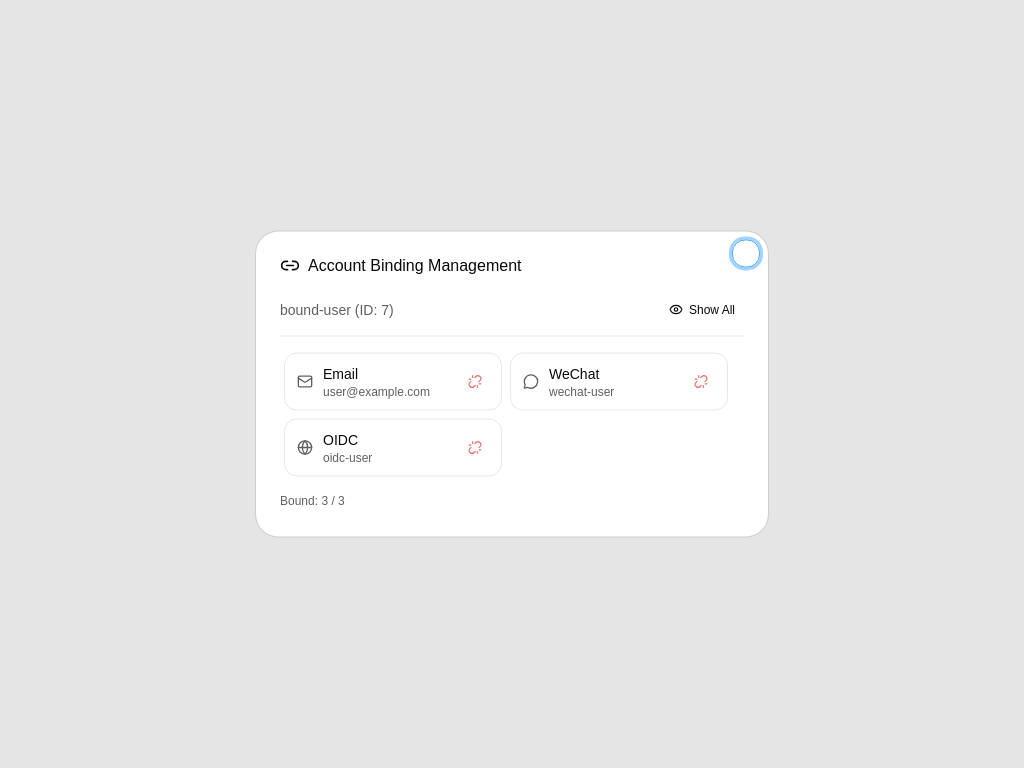
Test: UserBindingDialog built-in bindings › submits each supported binding type and keeps removed providers hidden
Expected: the text "bound-user (ID: 7)" is shown, [280,300,394,320]
Click the button without text next to "user@example.com" at (475, 382), box [461,368,489,396]
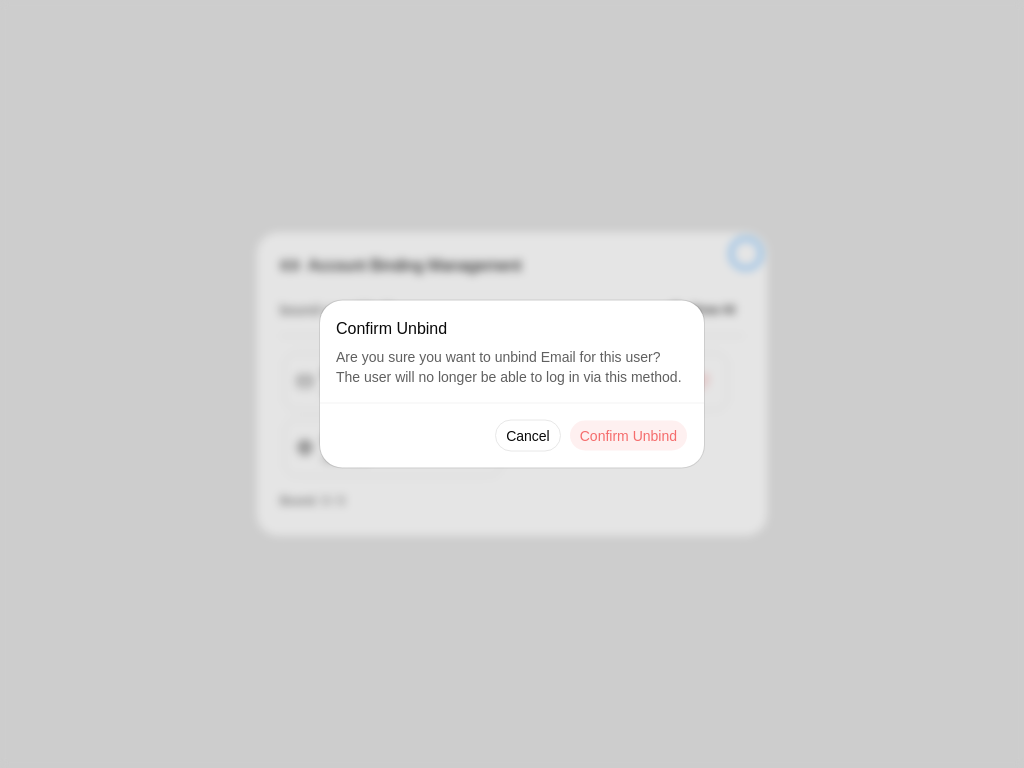
Click the button "Confirm Unbind" at (628, 436), box [569,420,688,452]
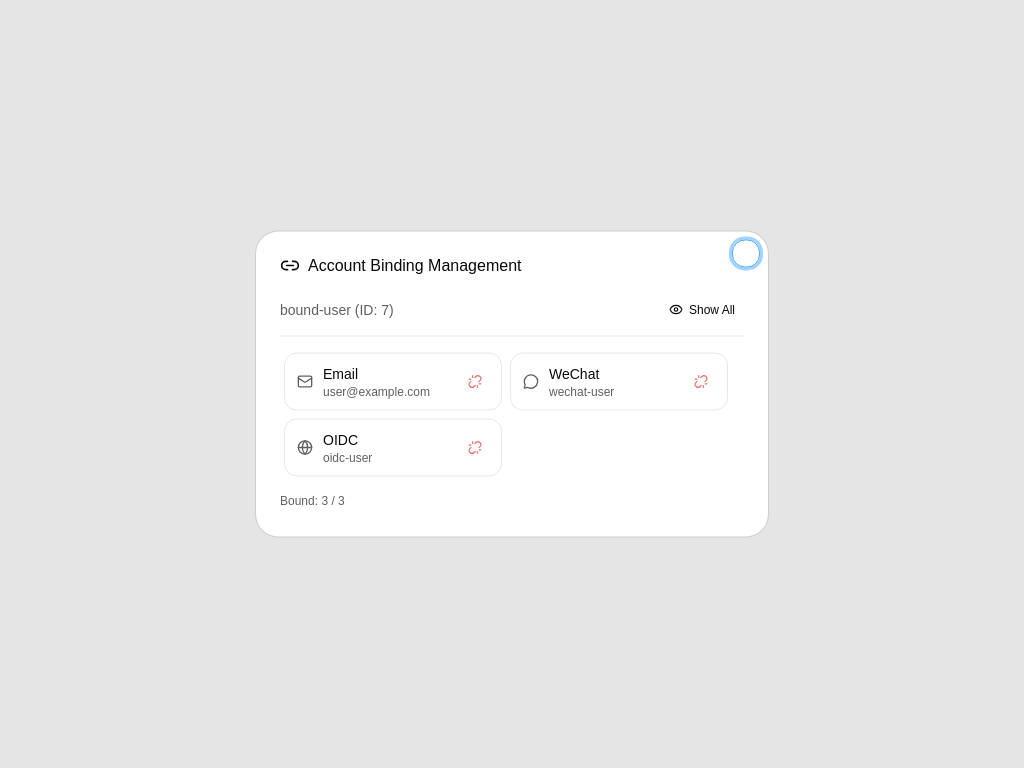
Result: the heading "Confirm Unbind" is gone
Click the button without text next to "wechat-user" at (701, 382), box [687,368,715,396]
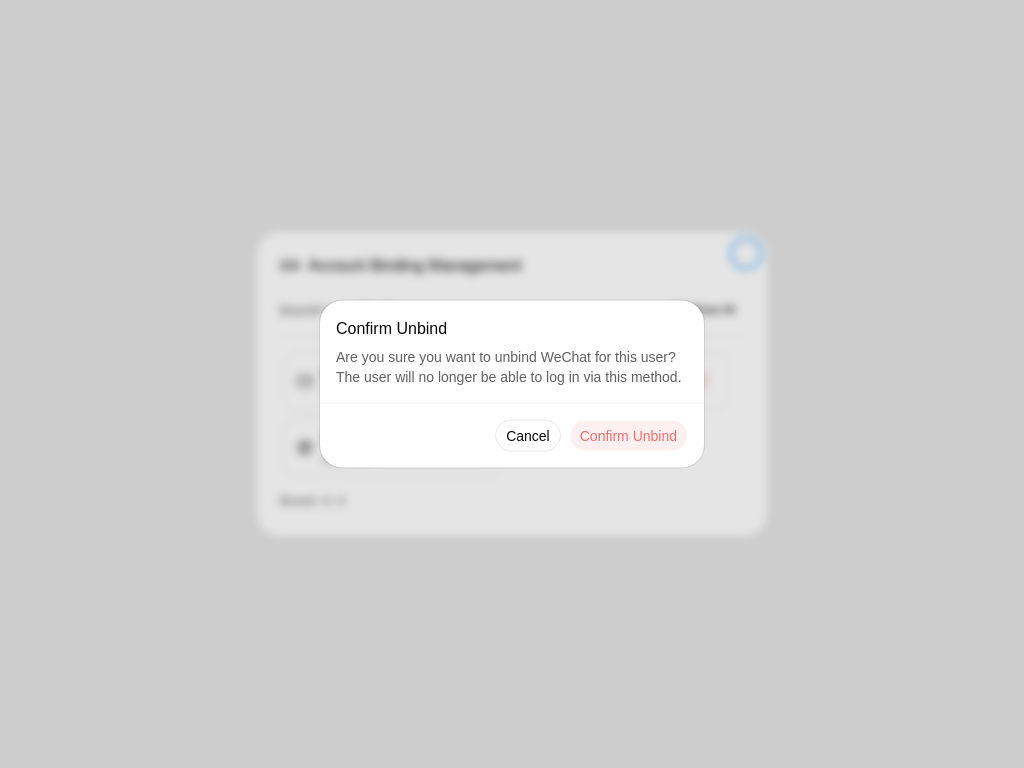
Click the button "Confirm Unbind" at (628, 436), box [569,420,688,452]
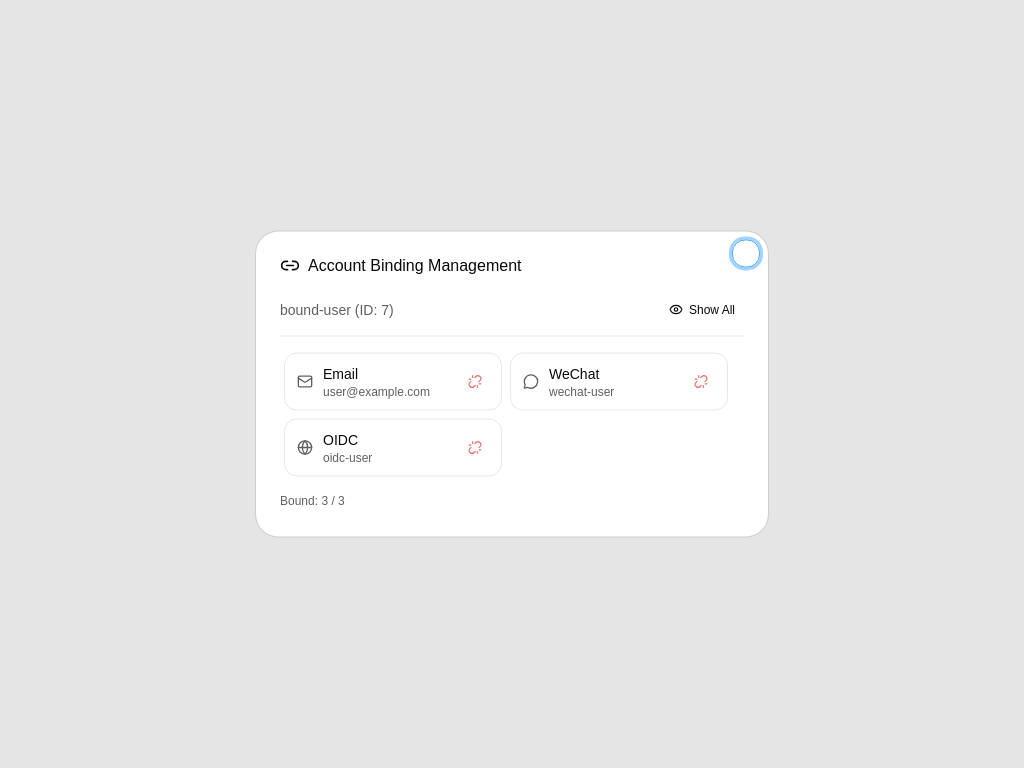
Result: the heading "Confirm Unbind" is gone
Click the button without text next to "oidc-user" at (475, 448), box [461,434,489,462]
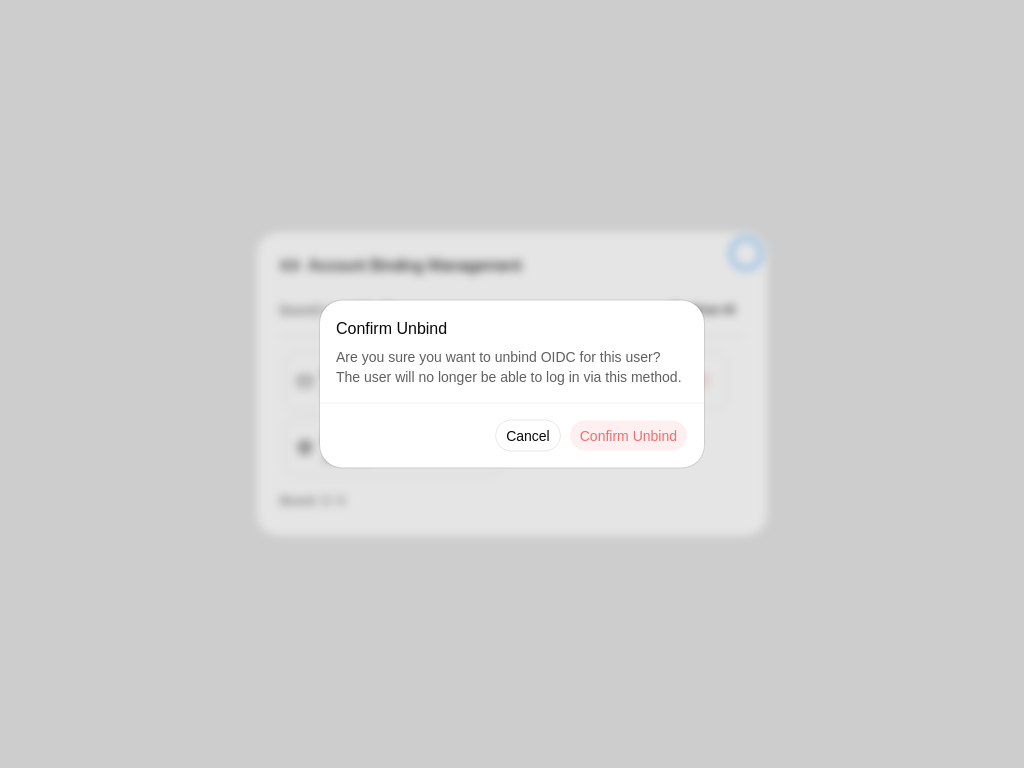
Click the button "Confirm Unbind" at (628, 436), box [569,420,688,452]
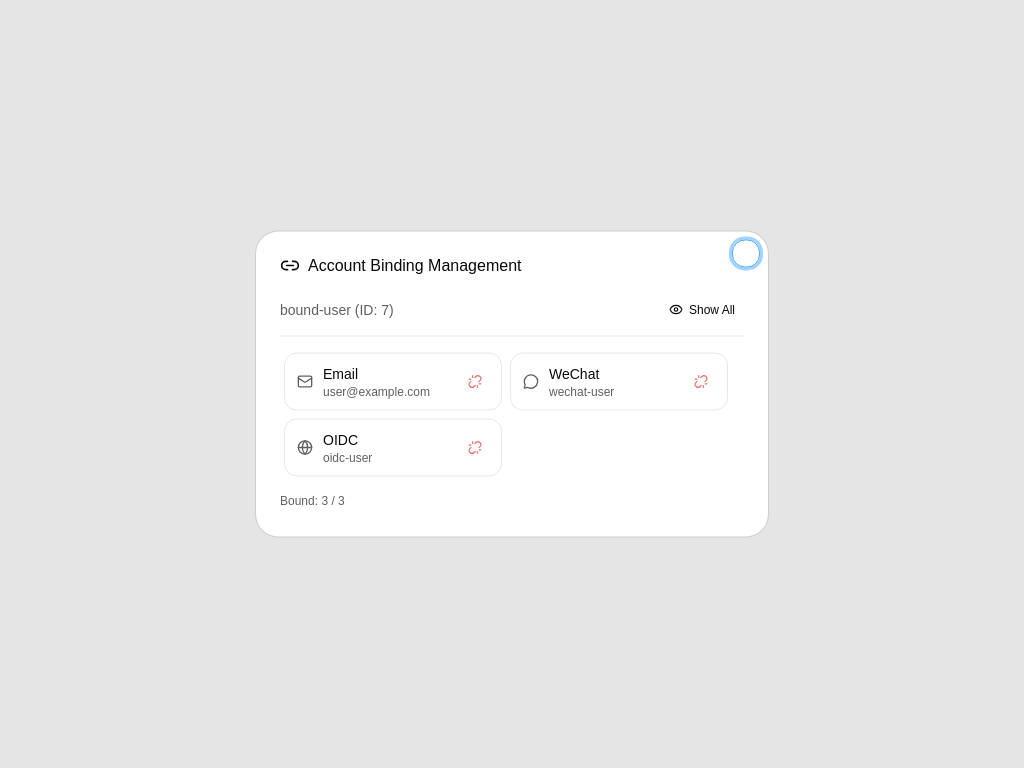
Result: the heading "Confirm Unbind" is gone
